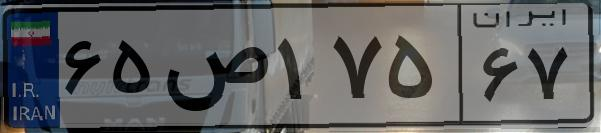1: (270, 28, 330, 110)
5: (385, 28, 445, 110), (110, 28, 158, 98)
6: (57, 26, 110, 100), (475, 38, 525, 113)
7: (330, 28, 385, 110), (525, 38, 570, 115)
ص: (158, 20, 270, 120)
